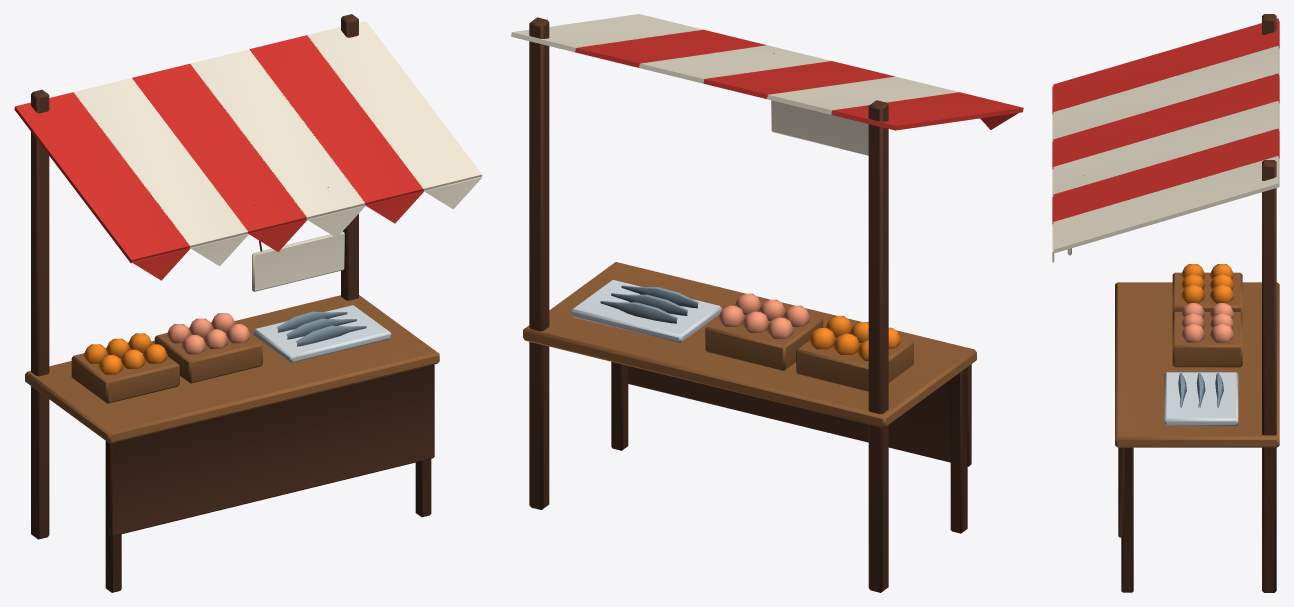
The model's file is market-stall.glb.
3 views of the same model, side by side, from view 1: azimuth 30°, elevation 25°; view 2: azimuth 150°, elevation 25°; view 3: azimuth 270°, elevation 25° (orthographic). The views are drawn at different scales.
Visible parts, largest first — view 1: Market stall Dark wood, Market stall Fabric cream, Market stall Fabric red, Market stall Wood, Market stall Cream paint, Market stall Peach, Market stall Orange, Market stall Fish; view 2: Market stall Dark wood, Market stall Wood, Market stall Fabric cream, Market stall Fabric red, Market stall Cream paint, Market stall Peach, Market stall Fish, Market stall Orange; view 3: Market stall Fabric cream, Market stall Wood, Market stall Fabric red, Market stall Dark wood, Market stall Cream paint, Market stall Peach, Market stall Orange, Market stall Fish.
Part boxes in pixels (box(x1,y1,x2,y2)): Market stall Dark wood: box(31, 14, 434, 592); Market stall Fabric cream: box(73, 21, 482, 291); Market stall Fabric red: box(14, 35, 423, 280); Market stall Wood: box(25, 295, 439, 443); Market stall Cream paint: box(253, 305, 391, 362); Market stall Peach: box(166, 313, 250, 354); Market stall Orange: box(83, 333, 167, 374); Market stall Fish: box(277, 311, 366, 346); Market stall Dark wood: box(529, 17, 971, 592); Market stall Wood: box(523, 262, 976, 427); Market stall Fabric cream: box(511, 14, 959, 155); Market stall Fabric red: box(575, 29, 1023, 130); Market stall Cream paint: box(571, 280, 721, 343); Market stall Peach: box(718, 293, 810, 338); Market stall Fish: box(600, 285, 698, 323); Market stall Orange: box(809, 316, 901, 360); Market stall Fabric cream: box(1052, 46, 1279, 262); Market stall Wood: box(1115, 272, 1279, 447); Market stall Fabric red: box(1052, 18, 1279, 224); Market stall Dark wood: box(1083, 14, 1276, 592); Market stall Cream paint: box(1164, 372, 1238, 425); Market stall Peach: box(1181, 303, 1234, 342); Market stall Orange: box(1181, 264, 1234, 303); Market stall Fish: box(1178, 373, 1223, 407).
Bounding box in the file's own units: 1.9 × 2.3 × 1.11.
